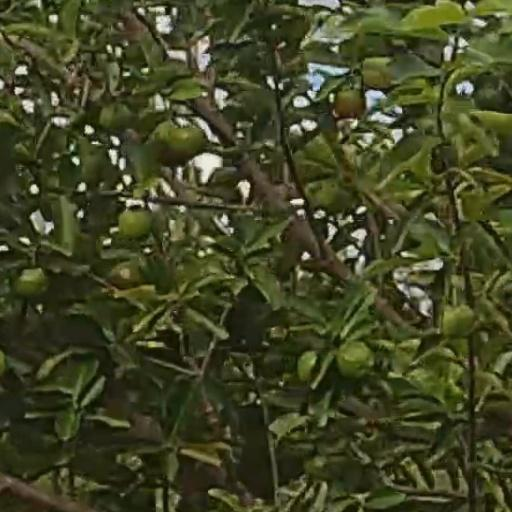acerola_verde: (171, 128, 207, 157), (341, 344, 371, 377), (18, 268, 49, 297), (119, 213, 151, 238)
acerola_vermelha: (336, 91, 368, 117)
